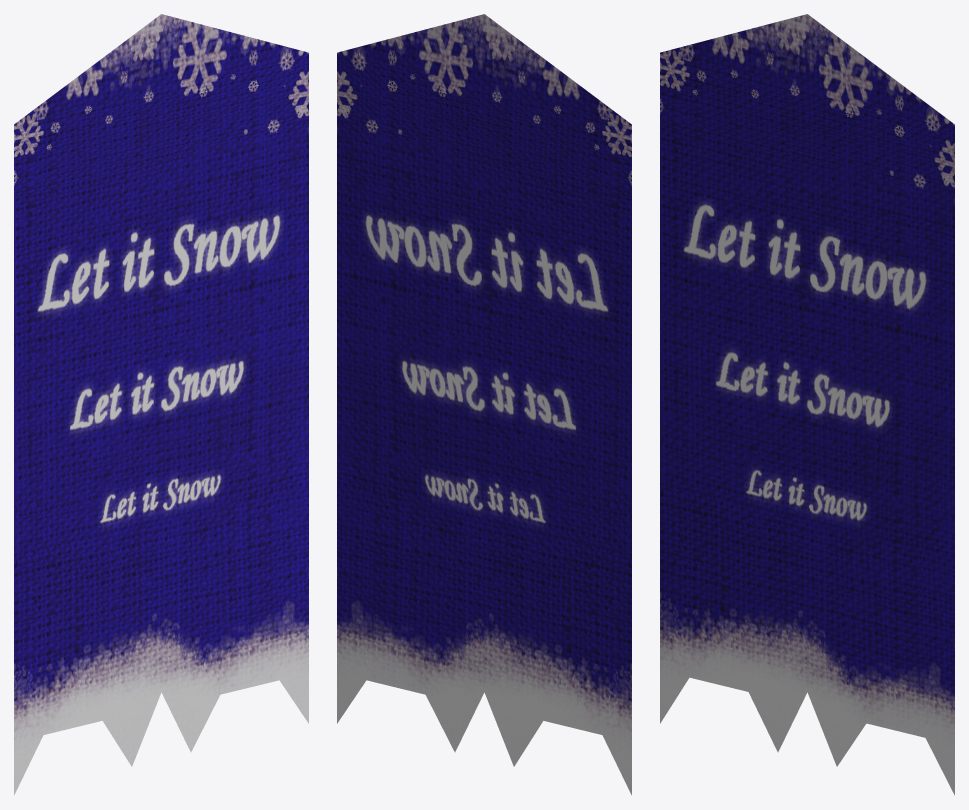
File: elf_banner_blueSnow_ver1.fbx
3 renders of one model, left to right at view 1: azimuth 30°, elevation 25°; view 2: azimuth 150°, elevation 25°; view 3: azimuth 330°, elevation 25°, orthographic.
Parts seen in each view (by area): view 1: Work_Banner; view 2: Work_Banner; view 3: Work_Banner.
Boxes of the visible parts, box(x1,y1,x2,y2) form: Work_Banner: box(14, 14, 308, 795); Work_Banner: box(337, 14, 631, 795); Work_Banner: box(660, 14, 954, 795).
Bounding box in the file's own units: 8.27 × 20 × 7.11e-15.
